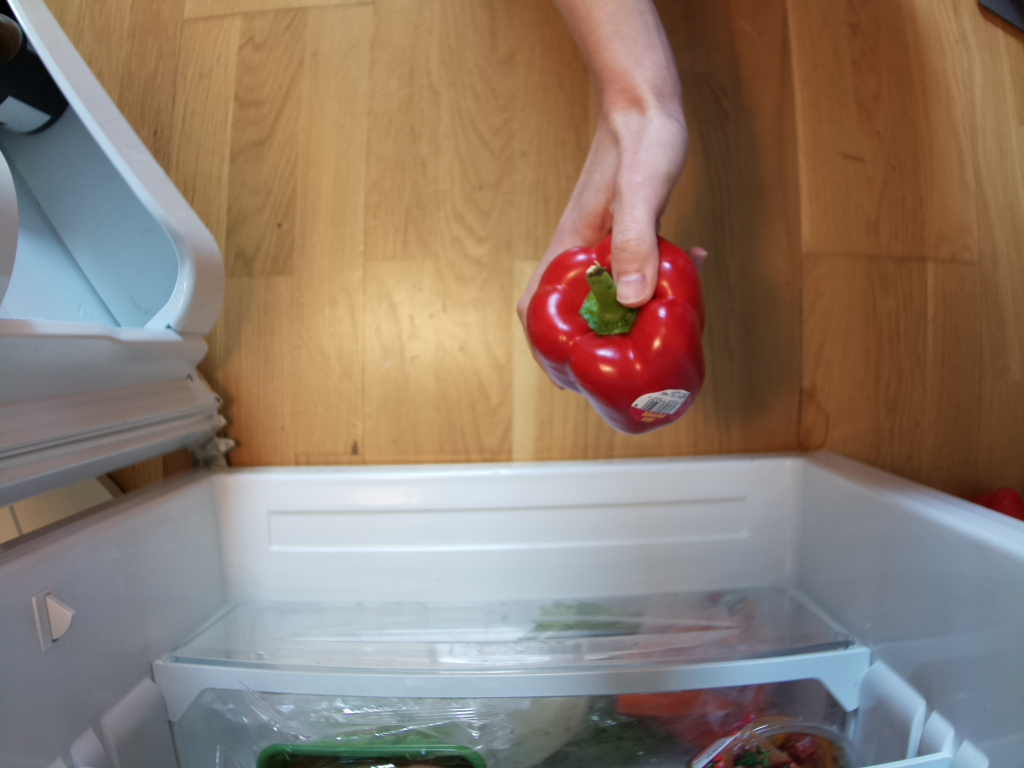pepper: (525, 229, 709, 439)
